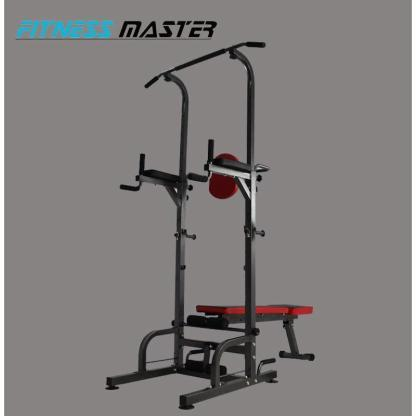chinning dipping: (106, 41, 265, 411)
